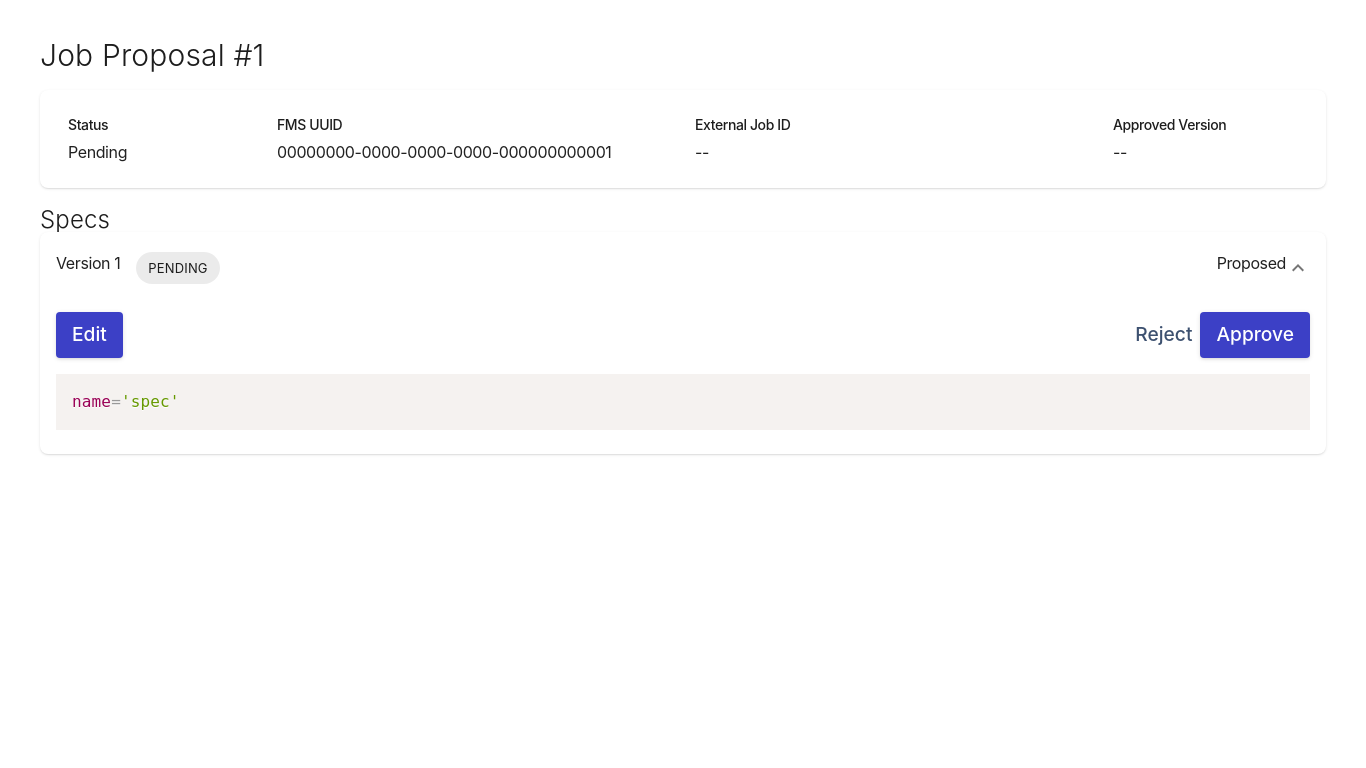
JobProposalScreen › proposal not found for update
Click the button "Edit".
click(89, 335)  # box [56, 312, 123, 358]
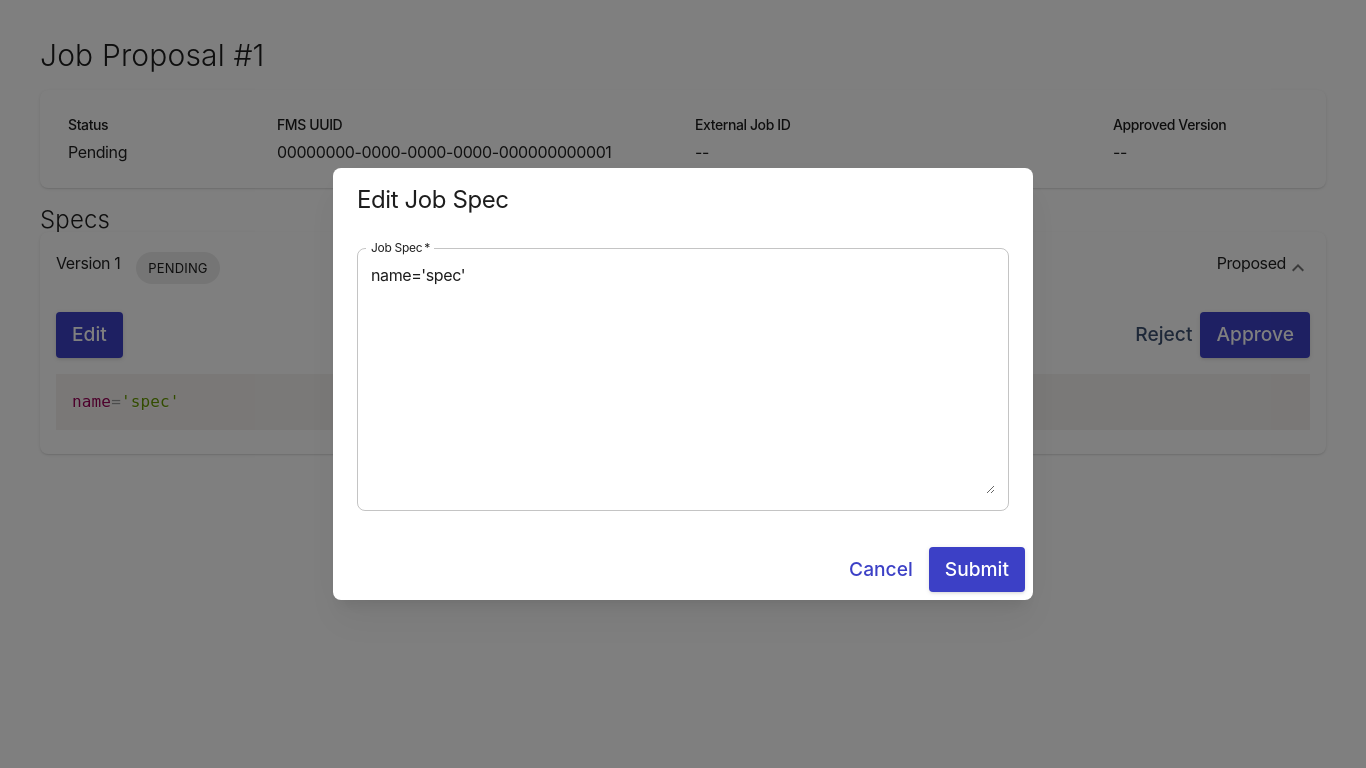
Replace the text in the text box labelled "Job Spec *" with "name=\"updated spec\"" at (683, 379), box [371, 264, 995, 494]
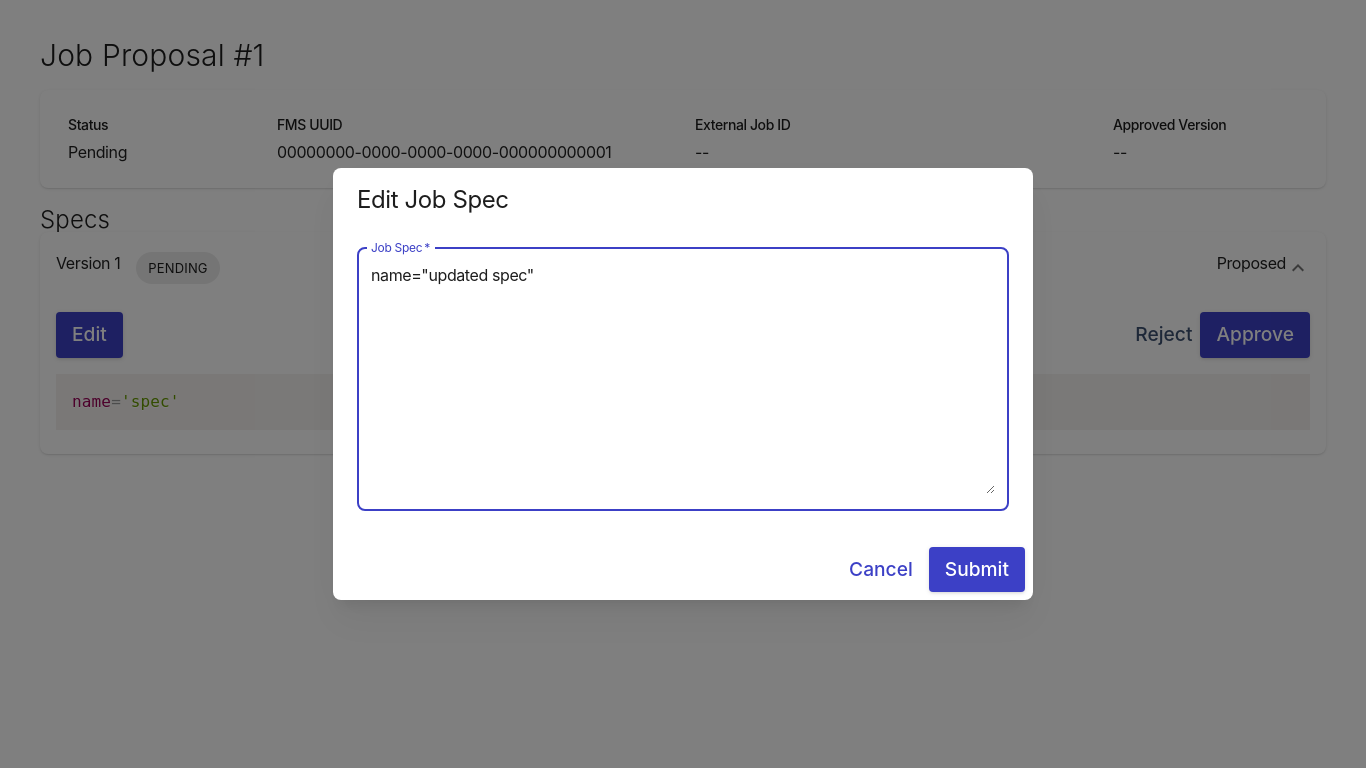
Click the button "Submit".
click(977, 570)  # box [929, 547, 1025, 592]
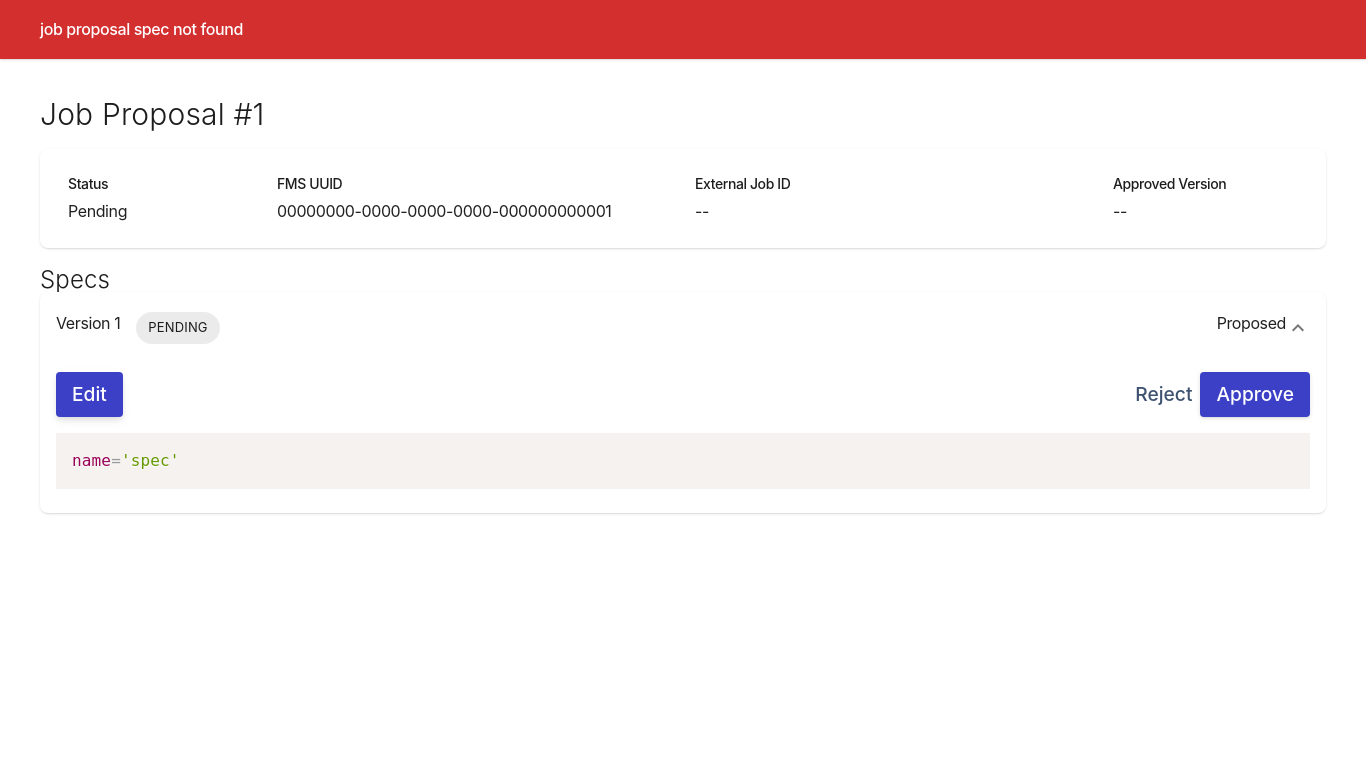
Check: the text "job proposal spec not found" is shown, box [40, 19, 243, 39]
